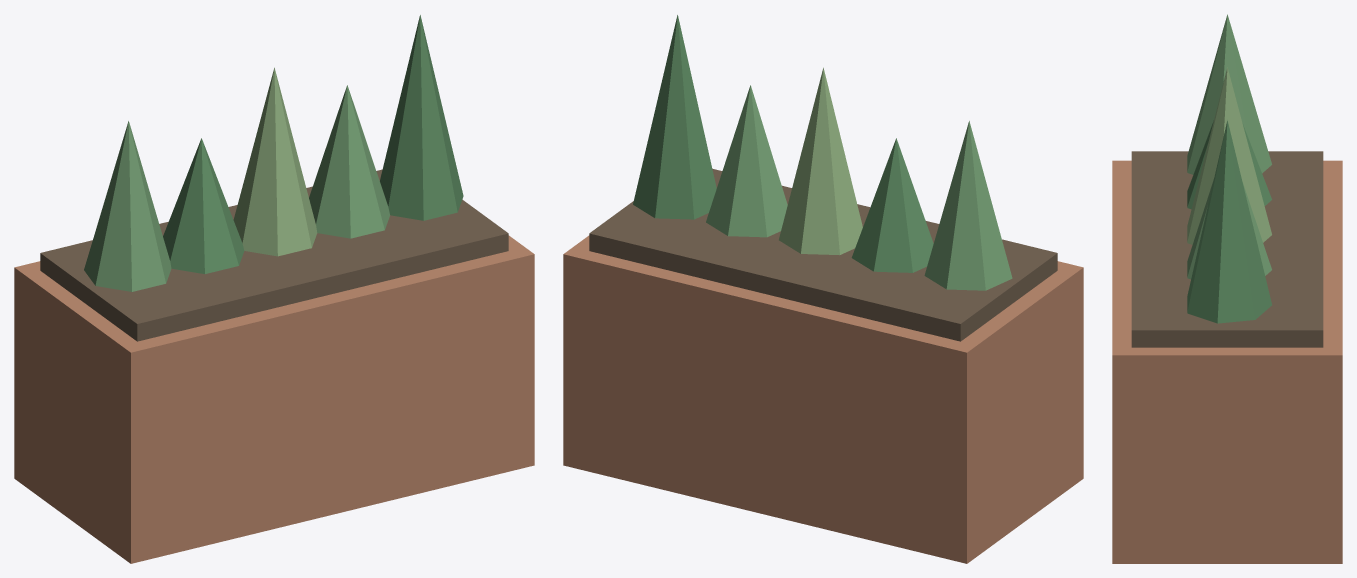
File: pla_manjericao2.glb
3 renders of one model, left to right at view 1: azimuth 30°, elevation 25°; view 2: azimuth 150°, elevation 25°; view 3: azimuth 270°, elevation 25°, orthographic.
Visible parts, largest first — view 1: PLA_MANJERICAO2_v01; view 2: PLA_MANJERICAO2_v01; view 3: PLA_MANJERICAO2_v01.
Part boxes in pixels (x1,y1,x2,y2): PLA_MANJERICAO2_v01: [14, 15, 534, 563]; PLA_MANJERICAO2_v01: [563, 15, 1083, 563]; PLA_MANJERICAO2_v01: [1112, 14, 1342, 563].
Bounding box in the file's own units: 0.36 × 0.36 × 0.18.
